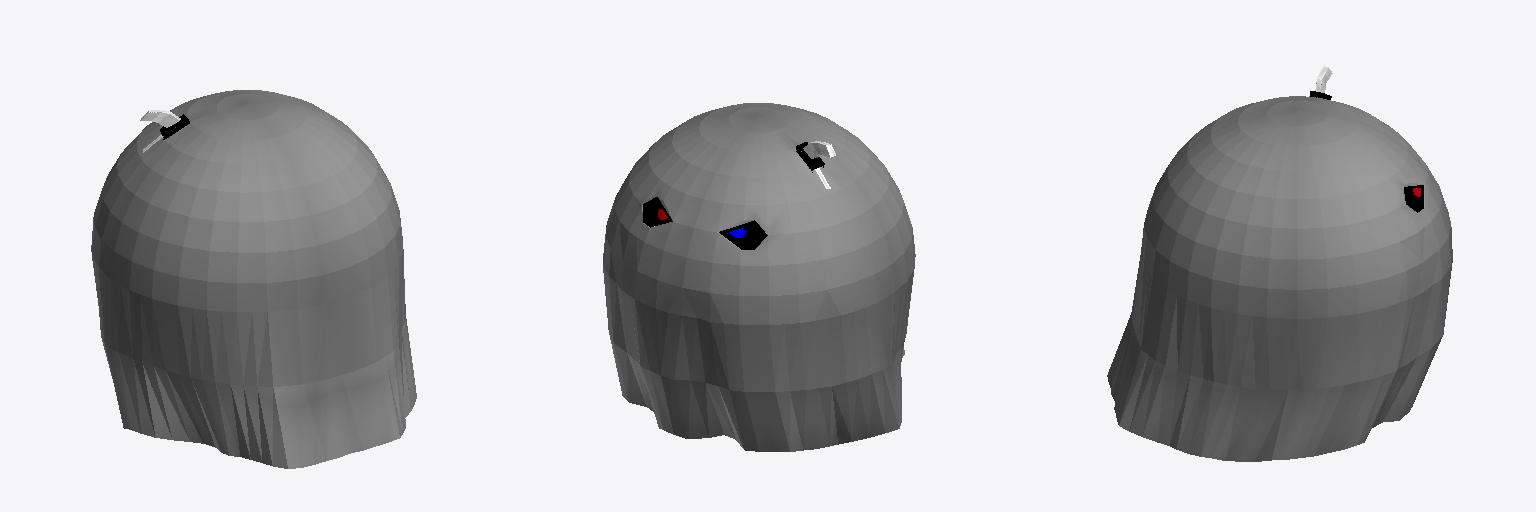
3 renders of one model, left to right at view 1: azimuth 30°, elevation 25°; view 2: azimuth 150°, elevation 25°; view 3: azimuth 270°, elevation 25°, orthographic.
Visible parts, largest first — view 1: Cylinder; view 2: Cylinder; view 3: Cylinder.
Boxes of the visible parts, x1=… form: Cylinder: x1=91, y1=90, x2=416, y2=468; Cylinder: x1=603, y1=103, x2=915, y2=451; Cylinder: x1=1107, y1=66, x2=1452, y2=461.
Bounding box in the file's own units: 2 × 2.09 × 2.21.
5 materials, 1 textured.